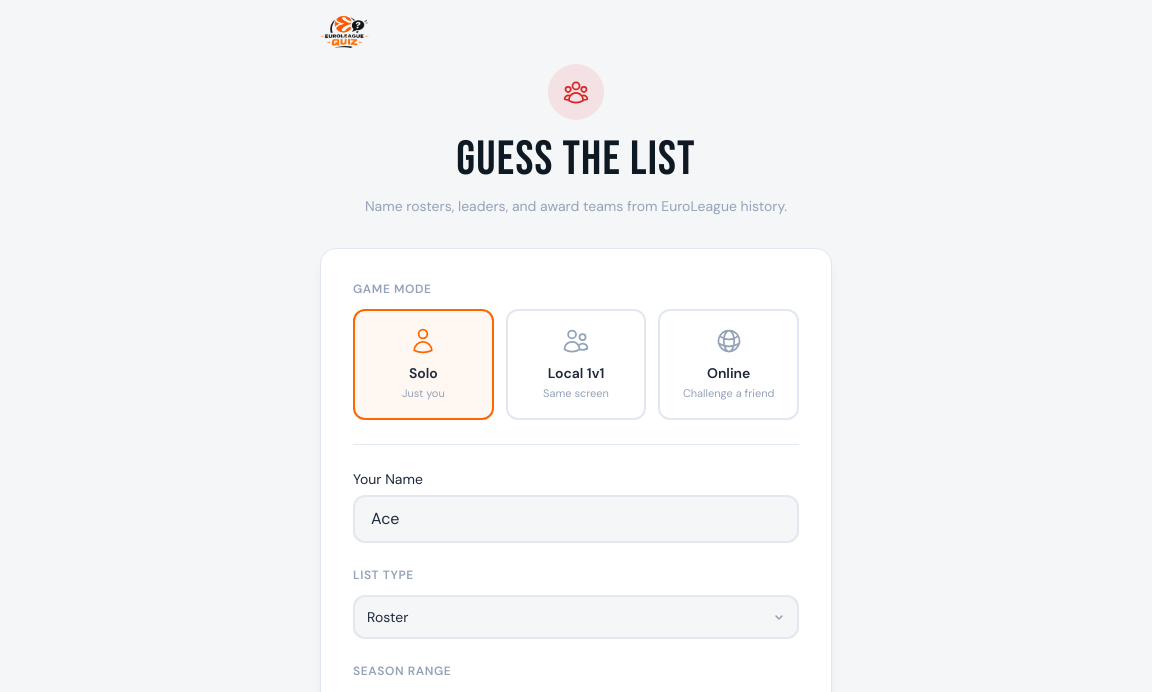
GuessTheListSetup › captions Classic create options with Season Range and Settings sections
Click the text "Online" at x=729, y=373, box [707,364,750,382]
(page scrolled)
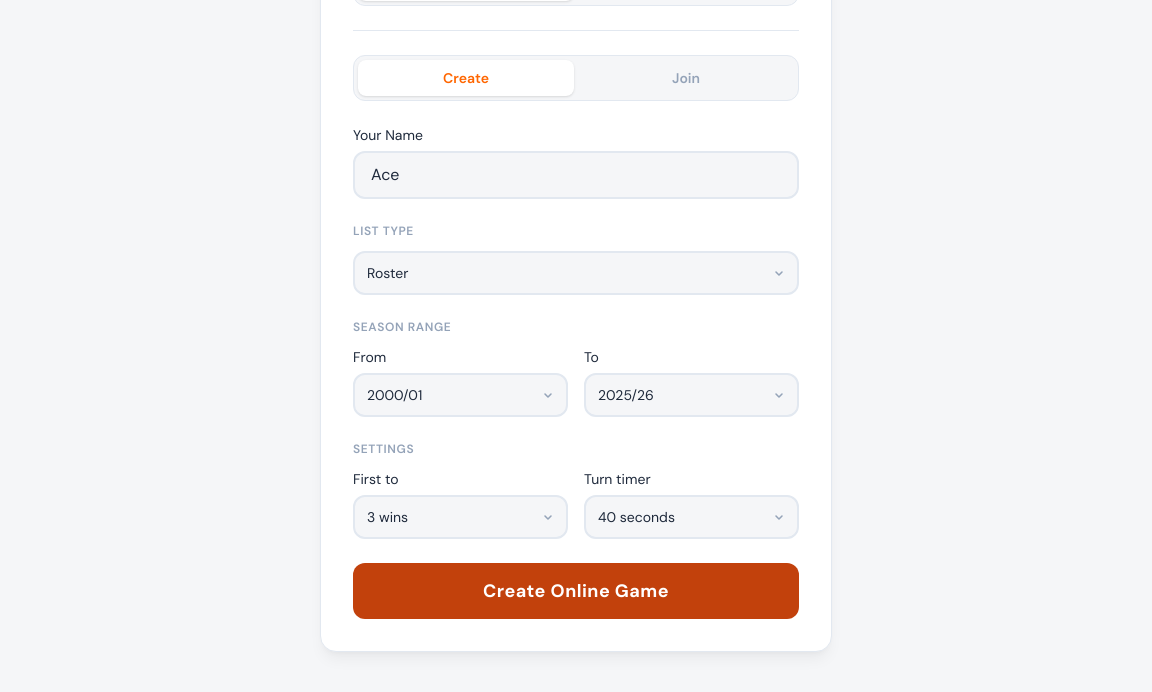
Expected: the text "Season Range" is shown, [353,318,451,334]
Expected: the text "Settings" is shown, [353,440,414,456]
